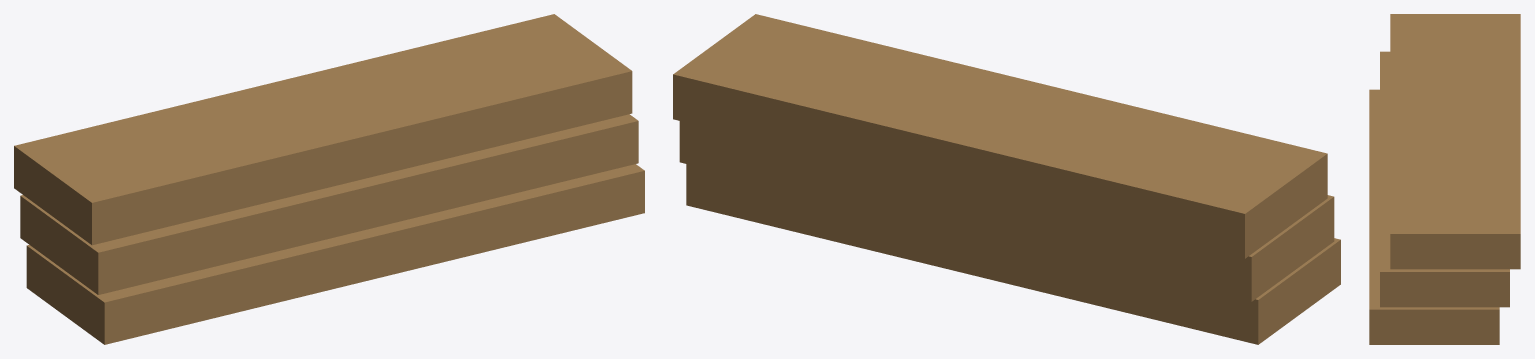
File: good_9.glb
The picture shows the model from 3 angles, left to right: view 1: azimuth 30°, elevation 25°; view 2: azimuth 150°, elevation 25°; view 3: azimuth 270°, elevation 25°; orthographic projection. The views are drawn at different scales.
Parts seen in each view (by area): view 1: good_9; view 2: good_9; view 3: good_9.
Part boxes in pixels (box(x1,y1,x2,y2)): good_9: box(14, 14, 644, 344); good_9: box(673, 14, 1340, 344); good_9: box(1369, 14, 1520, 344).
Bounding box in the file's own units: 0.2 × 0.047 × 0.058.
